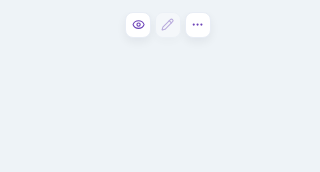
Test: Projetos — referência Clientes › arquivado permanece somente leitura
Expected: the button named "Editar projeto Teste" is disabled, 155,12 -> 181,38
What coordinates should you click on to do the following:
click the button named "Mais ações — Teste"
I would click on:
 (198, 25)
Its box is 185,12 -> 211,38.
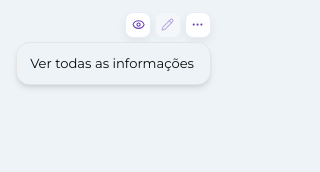
Result: the number of menu items is 1 at 30,55 -> 194,71
